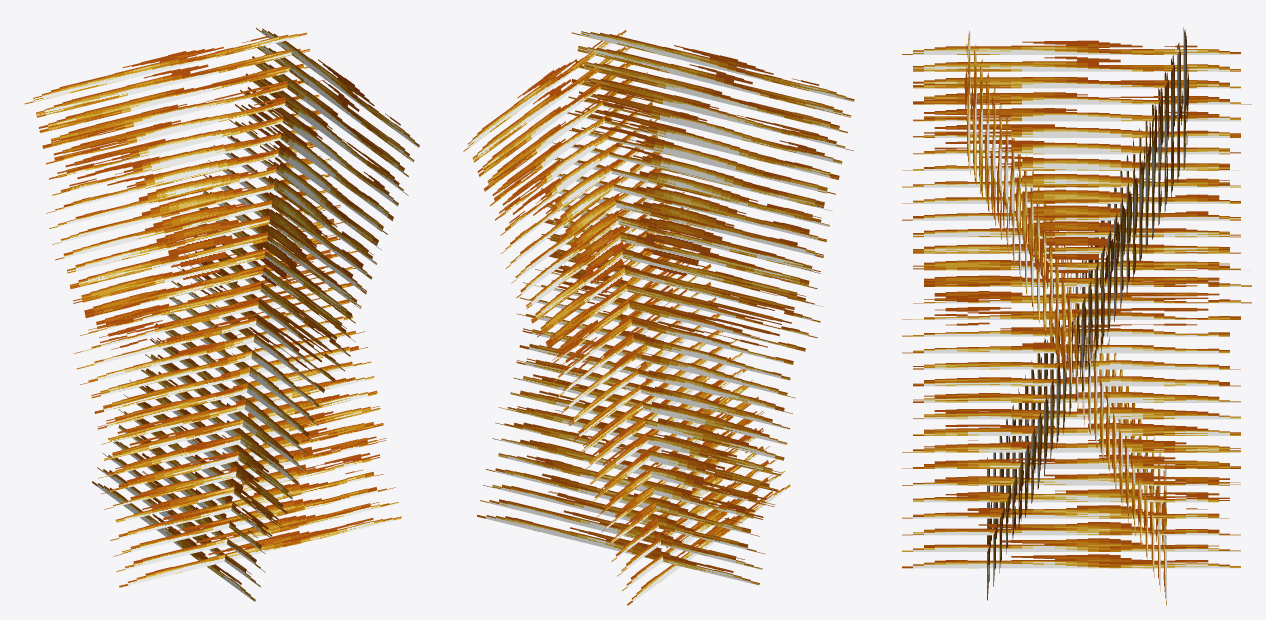
Rendered from block_fire_floor1.gltf.
The picture shows the model from 3 angles, left to right: view 1: azimuth 30°, elevation 25°; view 2: azimuth 150°, elevation 25°; view 3: azimuth 270°, elevation 25°; orthographic projection. The views are drawn at different scales.
Parts seen in each view (by area): view 1: cube (×2); view 2: cube (×2); view 3: cube (×3).
Boxes of the visible parts, x1=… form: cube (×2): x1=24, y1=28, x2=419, y2=601; cube (×2): x1=463, y1=30, x2=854, y2=605; cube (×3): x1=902, y1=27, x2=1251, y2=605.
Bounding box in the file's own units: 1 × 1.44 × 1.
1 material, 1 textured.
